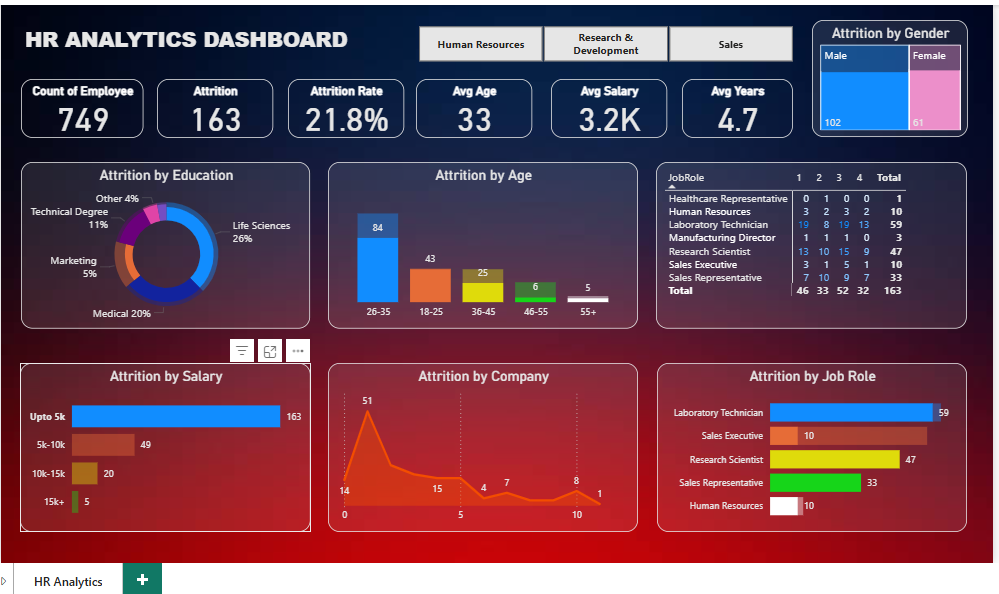

The dashboard page shown, as its layout file describes it:
{"tool":"powerbi","page":{"name":"Page 1","canvas":[1280,720],"ordinal":0},"visuals":[{"type":"card","title":"Count of Employee","fields":{"Values":["Count(HR_Analytics.EmpID)"]},"box":[26.4,95.1,158.5,75.7],"z":0},{"type":"card","title":"Attrition","fields":{"Values":["Sum(HR_Analytics.AttritionCount)"]},"box":[200.7,95.1,149.7,75.7],"z":1000},{"type":"card","title":"Attrition Rate","fields":{"Values":["HR_Analytics.AttritionRate"]},"box":[369.7,95.1,149.7,75.7],"z":2000},{"type":"card","title":"Avg Age","fields":{"Values":["Avg(HR_Analytics.Age)"]},"box":[535.2,95.1,149.7,75.7],"z":3000},{"type":"card","title":"Avg Years","fields":{"Values":["Avg(HR_Analytics.YearsAtCompany)"]},"box":[878.6,95.1,142.6,75.7],"z":4000},{"type":"card","title":"Avg Salary","fields":{"Values":["Avg(HR_Analytics.MonthlyIncome)"]},"box":[709.5,95.1,149.7,75.7],"z":5000},{"type":"donutChart","title":"Attrition by Education","fields":{"Category":["HR_Analytics.EducationField"],"Y":["Sum(HR_Analytics.AttritionCount)"]},"box":[26.4,202.5,373.3,214.8],"z":6000},{"type":"columnChart","title":"Attrition by Age","fields":{"Category":["HR_Analytics.AgeGroup"],"Y":["Sum(HR_Analytics.AttritionCount)"]},"box":[422.6,202.5,399.7,214.8],"z":7000},{"type":"pivotTable","fields":{"Rows":["HR_Analytics.JobRole"],"Columns":["HR_Analytics.JobSatisfaction"],"Values":["Sum(HR_Analytics.AttritionCount)"]},"box":[845.1,202.5,401.4,214.8],"z":8000},{"type":"barChart","title":"Attrition by Salary","fields":{"Category":["HR_Analytics.SalarySlab"],"Y":["Sum(HR_Analytics.AttritionCount)"]},"box":[24.6,461.3,375,218.3],"z":9000},{"type":"barChart","title":"Attrition by Job Role","fields":{"Y":["Sum(HR_Analytics.AttritionCount)"],"Category":["HR_Analytics.JobRole"]},"box":[846.9,461.3,399.7,218.3],"z":10000},{"type":"areaChart","title":"Attrition by Company","fields":{"Category":["HR_Analytics.YearsAtCompany"],"Y":["Sum(HR_Analytics.AttritionCount)"]},"box":[422.6,461.3,399.7,218.3],"z":11000},{"type":"treemap","title":"Attrition by Gender","fields":{"Values":["Sum(HR_Analytics.AttritionCount)"],"Group":["HR_Analytics.Gender"]},"box":[1045.8,19.4,200.7,151.4],"z":12000},{"type":"slicer","title":"Departments","fields":{"Values":["HR_Analytics.Department"]},"box":[513.4,20,532,58.6],"z":13000},{"type":"textbox","box":[25.7,20,463.4,60.1],"z":14000}]}

Visuals, with their boxes on the page's 1280x720 design canvas (x1, y1, x2, y2). These are canvas units, not pixel positions in the 999x594 screenshot, which may show the page scaled, cropped or inside an application window:
"Count of Employee" card: 26, 95, 185, 171
"Attrition" card: 201, 95, 350, 171
"Attrition Rate" card: 370, 95, 519, 171
"Avg Age" card: 535, 95, 685, 171
"Avg Years" card: 879, 95, 1021, 171
"Avg Salary" card: 710, 95, 859, 171
"Attrition by Education" donutChart: 26, 202, 400, 417
"Attrition by Age" columnChart: 423, 202, 822, 417
pivotTable - HR_Analytics.JobRole x HR_Analytics.JobSatisfaction: 845, 202, 1246, 417
"Attrition by Salary" barChart: 25, 461, 400, 680
"Attrition by Job Role" barChart: 847, 461, 1247, 680
"Attrition by Company" areaChart: 423, 461, 822, 680
"Attrition by Gender" treemap: 1046, 19, 1246, 171
"Departments" slicer: 513, 20, 1045, 79
textbox: 26, 20, 489, 80
